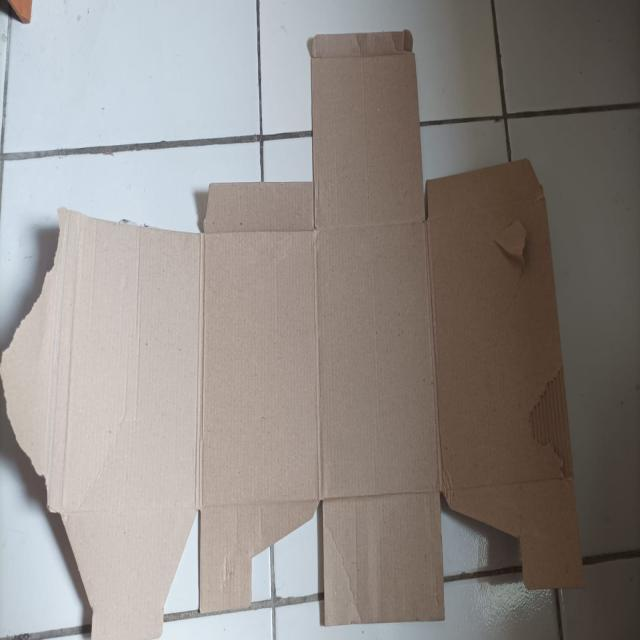Organik: (1, 29, 585, 639)
